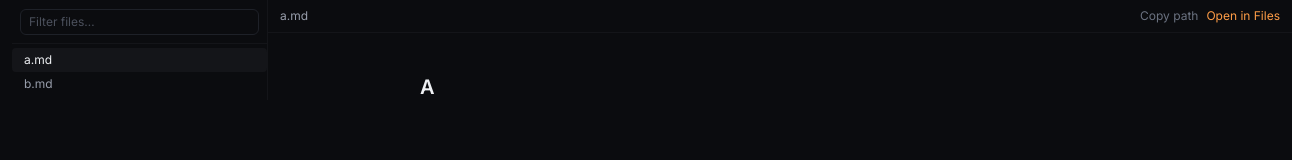
Scenario: KnowledgeBasePanel › reloads content when switching to a file that shares the previous mtime
Check: the heading "A" is shown, box [420, 75, 435, 99]
Click the button "b.md" at [140, 84], box [12, 72, 267, 96]
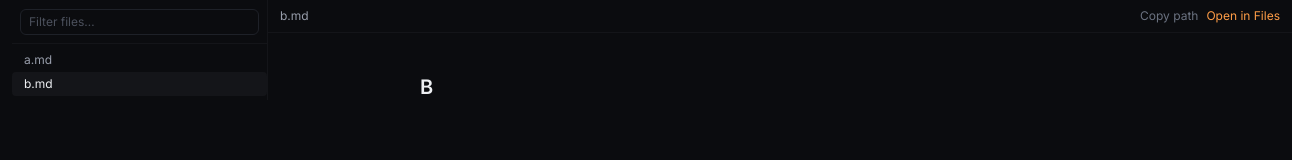
Check: the heading "B" is shown, box [420, 75, 433, 99]
